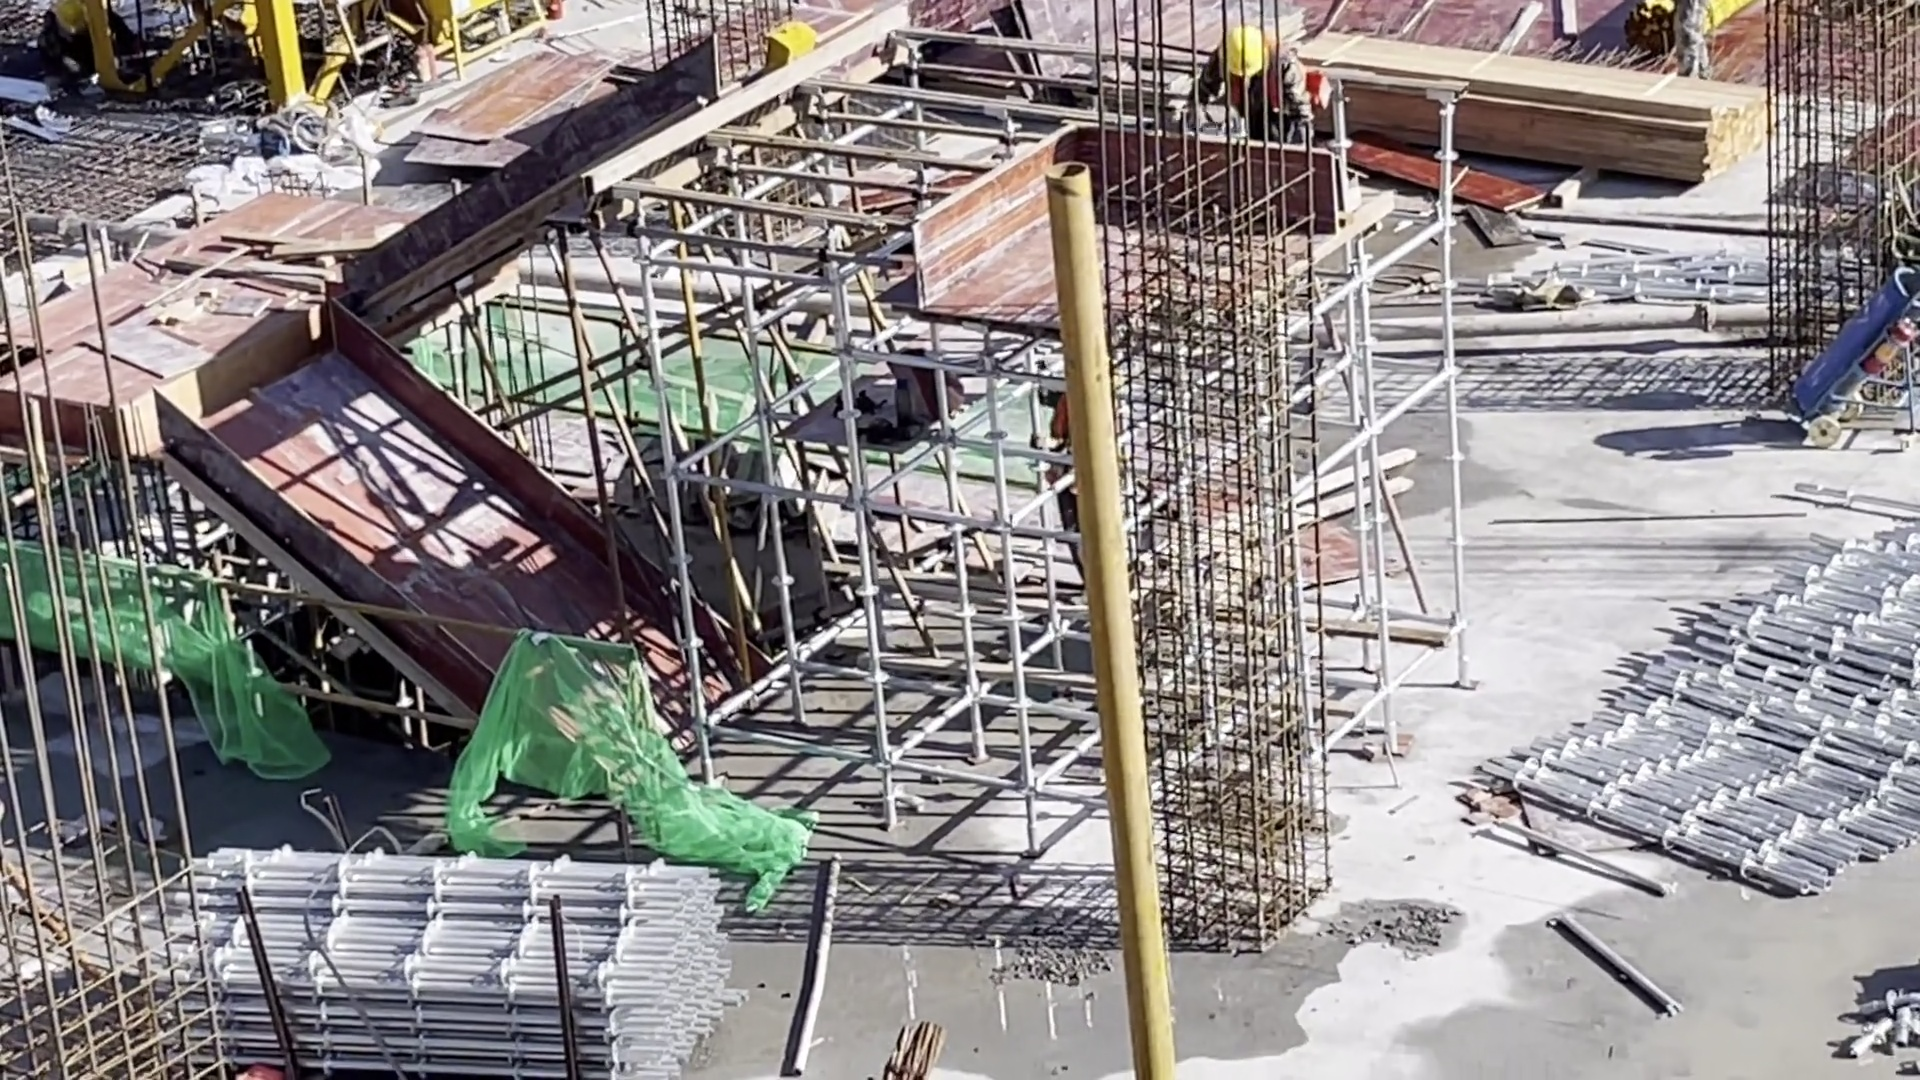ebox: (422, 2, 554, 71)
helmet: (1220, 32, 1265, 84), (51, 3, 88, 28)
person: (1196, 28, 1322, 146), (40, 5, 140, 101), (1658, 1, 1717, 73)
scaffold: (1478, 529, 1920, 900), (169, 837, 754, 1074)
vest: (1265, 39, 1306, 114)
wood: (1295, 30, 1774, 180)
